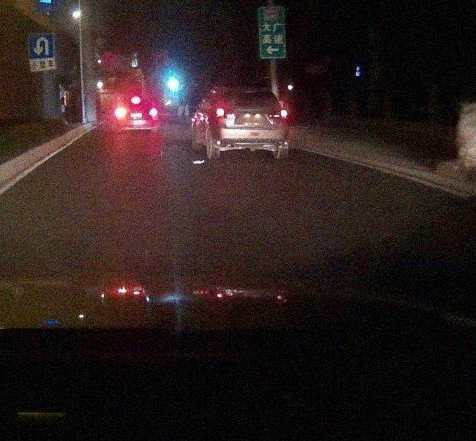L_light: (213, 108, 230, 117), (116, 108, 126, 113)
R_light: (272, 109, 288, 117), (149, 109, 158, 114)
T_light: (243, 92, 255, 95), (132, 98, 140, 102)
night-left: (115, 95, 158, 133)
night-no: (212, 86, 289, 160)
